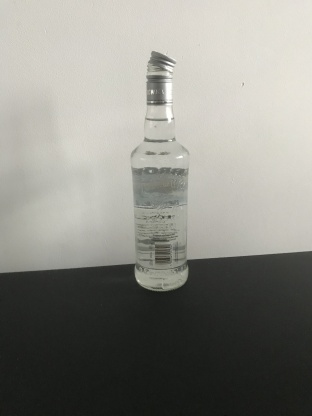nakretka: (144, 47, 177, 106)
